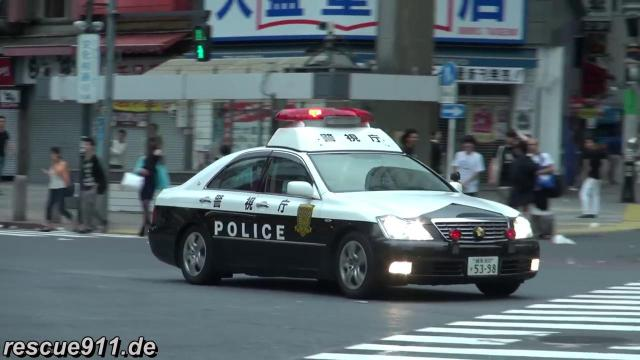police_car: (151, 104, 541, 300)
